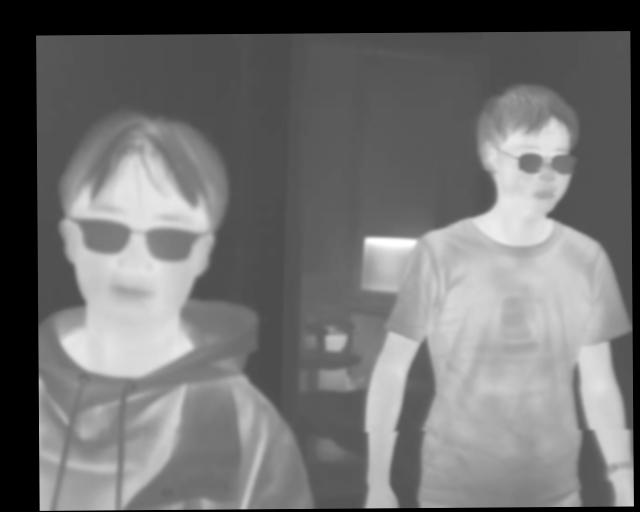face: (56, 110, 230, 327), (476, 83, 578, 215)
